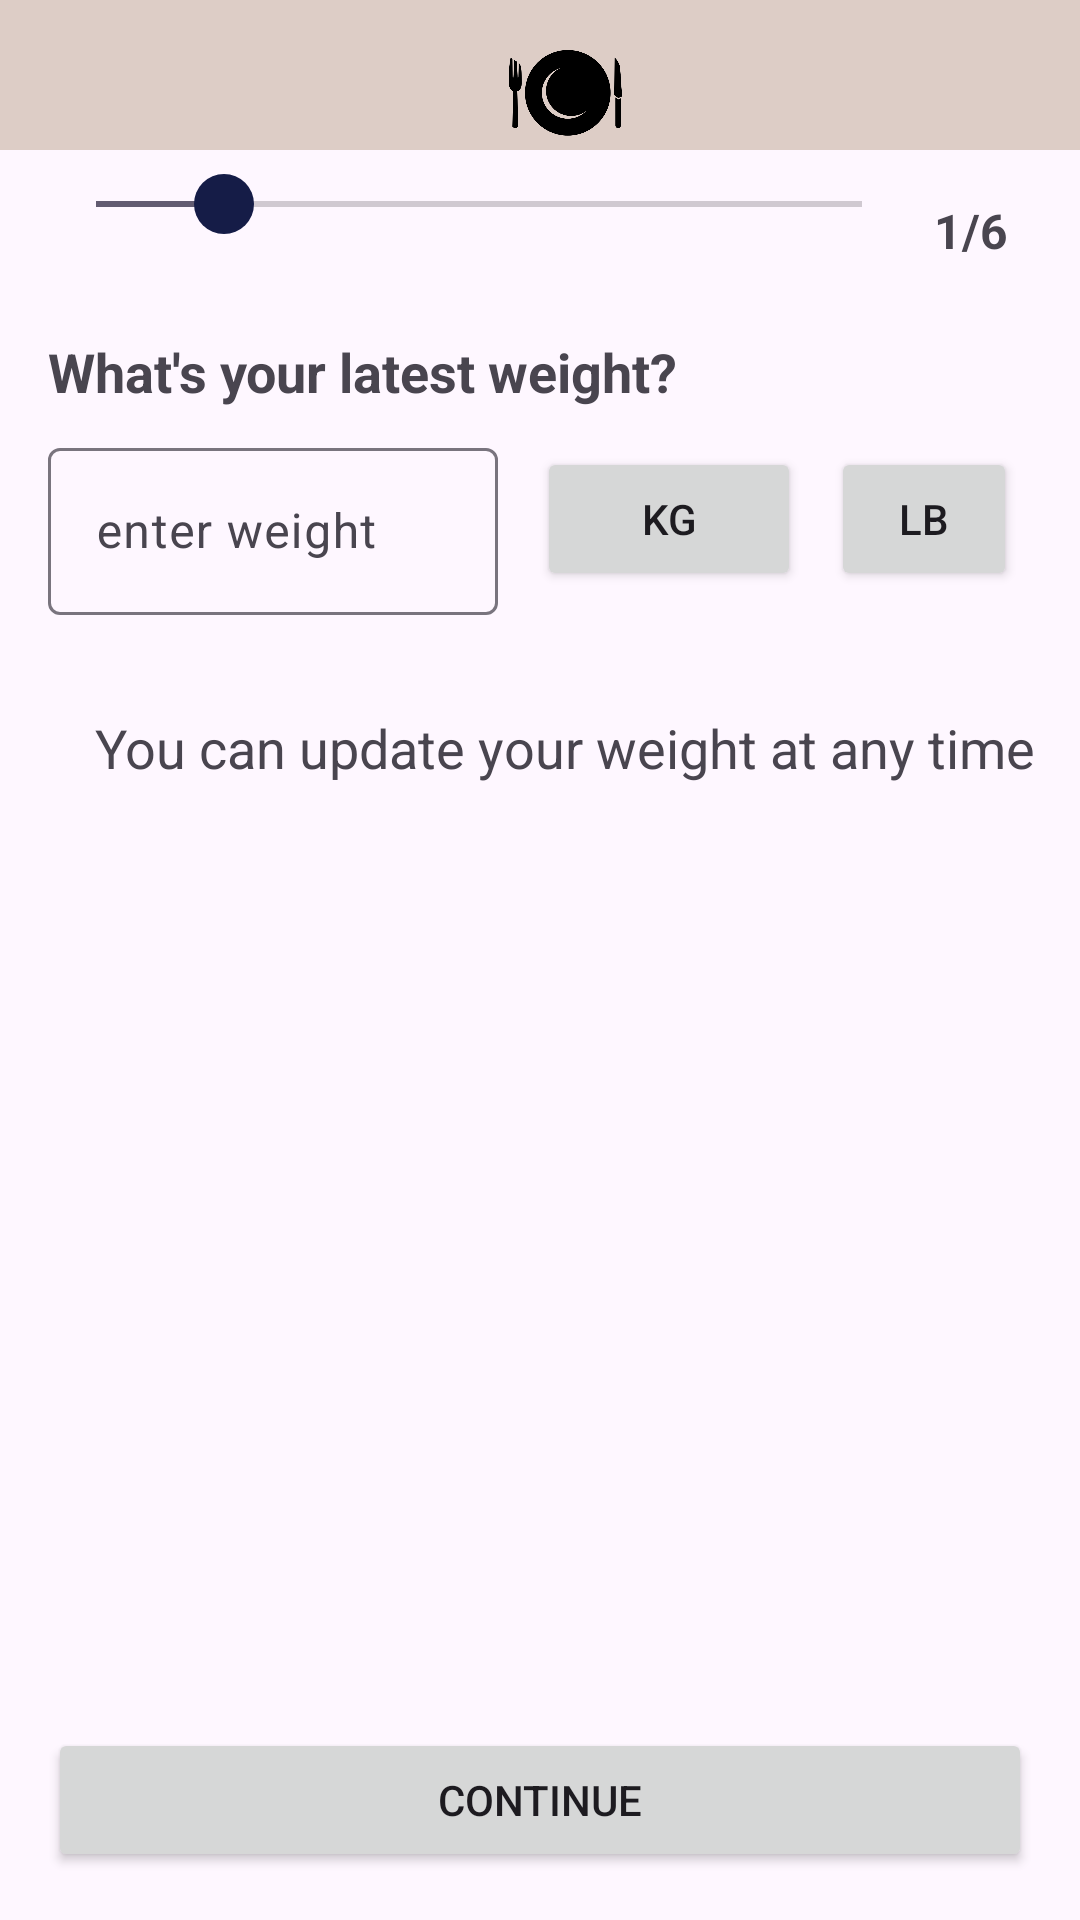

Screen size 1080x1920. Icon name, then its center in pixels as point (x, y):
noun meal: point (565, 93)
